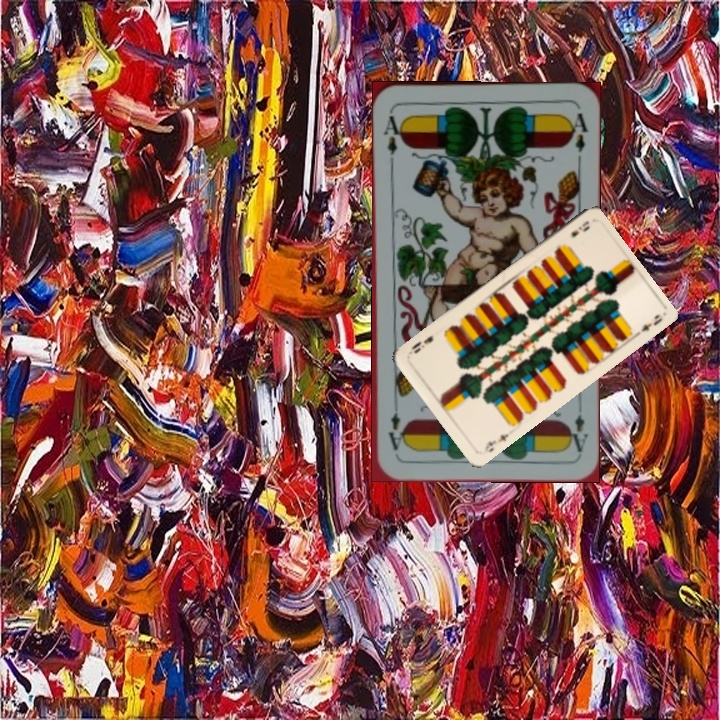E9: (480, 429, 511, 455), (566, 216, 592, 241)
EA: (379, 106, 406, 165), (564, 397, 590, 455)
